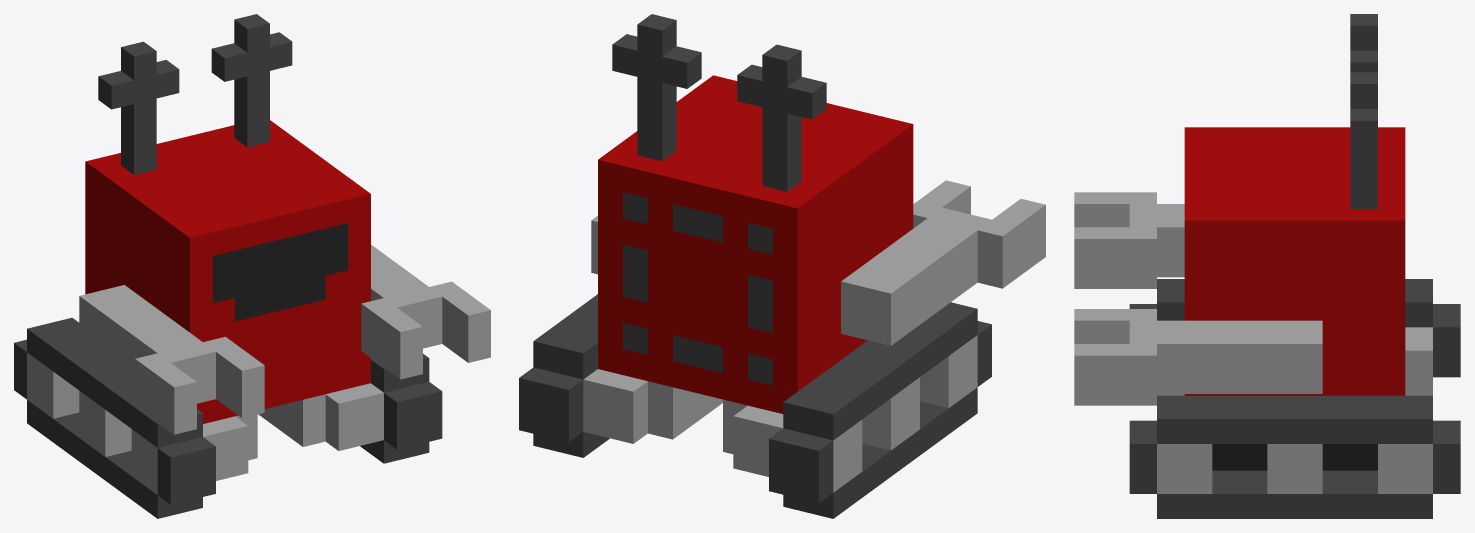
File: Red-0.obj
3 views of the same model, side by side, from view 1: azimuth 30°, elevation 25°; view 2: azimuth 150°, elevation 25°; view 3: azimuth 270°, elevation 25° (orthographic). The views are drawn at different scales.
Parts seen in each view (by area): view 1: Red-0; view 2: Red-0; view 3: Red-0.
Boxes of the visible parts, x1,y1,x2,y2 form: Red-0: (14, 14, 490, 518); Red-0: (519, 14, 1045, 518); Red-0: (1074, 14, 1460, 518).
Size of the model in its own units: 14 by 16 by 14.
1 material, 1 textured.
